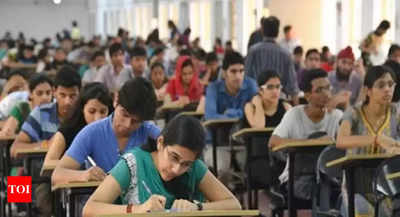student: (104, 120, 226, 213), (72, 85, 169, 181), (266, 76, 353, 164), (336, 73, 400, 165), (238, 71, 303, 151), (206, 58, 264, 138), (163, 55, 206, 105)
